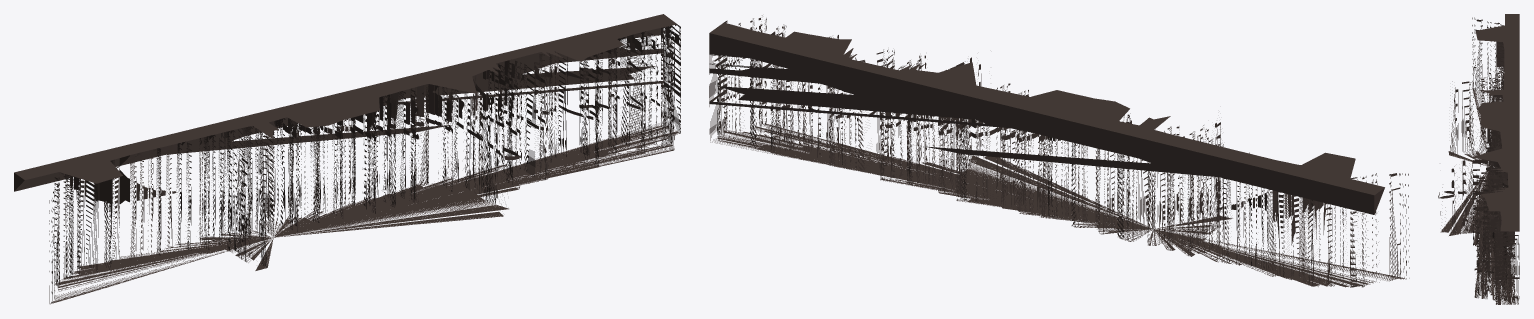
The model's file is upper land.FBX.
The picture shows the model from 3 angles, left to right: view 1: azimuth 30°, elevation 25°; view 2: azimuth 150°, elevation 25°; view 3: azimuth 270°, elevation 25°; orthographic projection. The views are drawn at different scales.
Visible parts, largest first — view 1: Shape1; view 2: Shape1; view 3: Shape1.
Part boxes in pixels (left/top/right/bottom): Shape1: left=14, top=14, right=680, bottom=304; Shape1: left=709, top=15, right=1409, bottom=287; Shape1: left=1438, top=14, right=1519, bottom=304.
Size of the model in its own units: 159 by 25 by 25.12.
